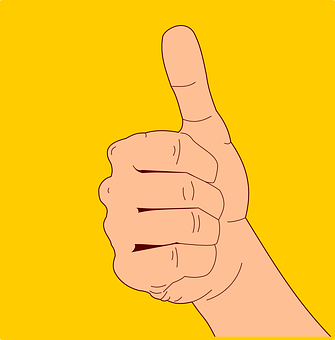fist: (100, 135, 252, 298)
